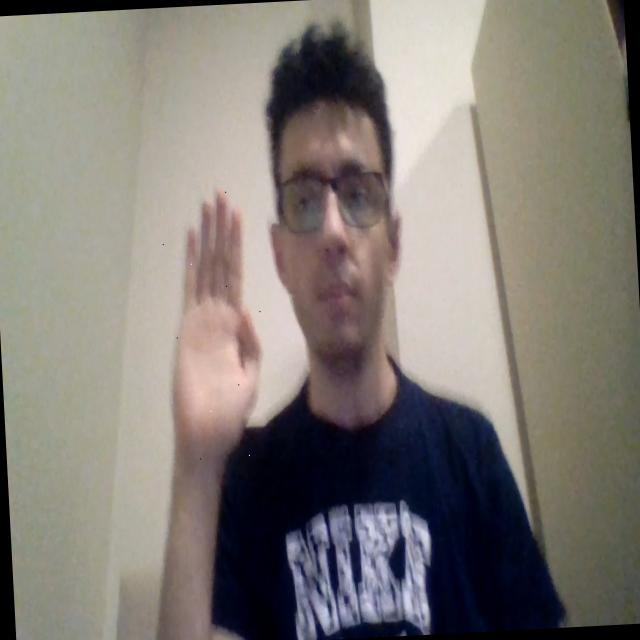hello: (158, 186, 268, 471)
